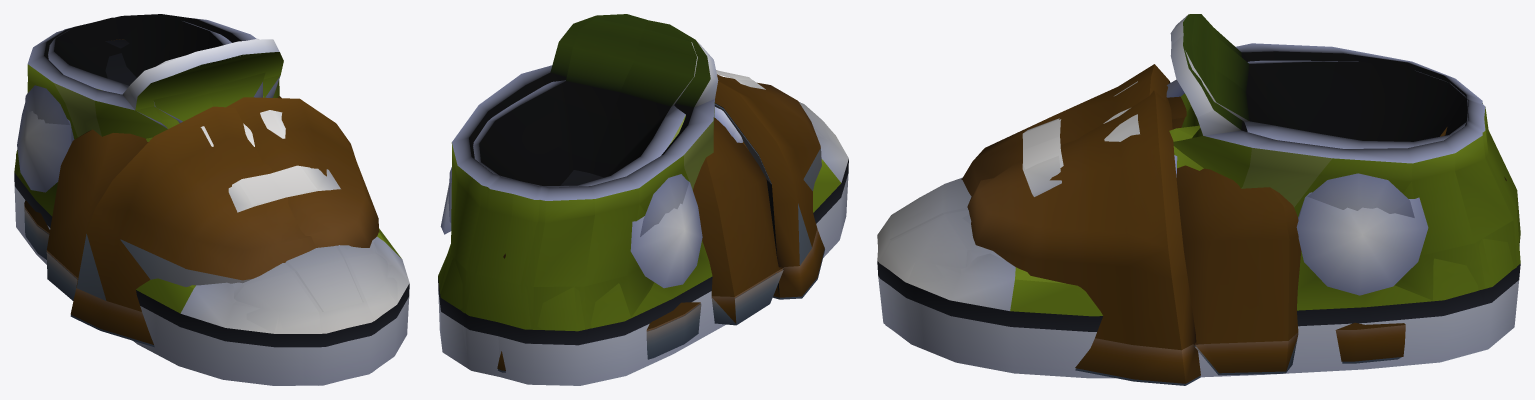
The model's file is BTLMN_Outfit_Shoes_A.glb.
The picture shows the model from 3 angles, left to right: view 1: azimuth 30°, elevation 25°; view 2: azimuth 150°, elevation 25°; view 3: azimuth 270°, elevation 25°; orthographic projection. The views are drawn at different scales.
Parts seen in each view (by area): view 1: Shoes_Military_Shoes_MA01_R, Shoes_Kicks_SA01_R, Shoes_Kicks_SA01_L, Shoes_Military_Shoes_MA01_L, Shoes_Armored_Shoes_AA01_R; view 2: Shoes_Kicks_SA01_L, Shoes_Kicks_SA01_R, Shoes_Military_Shoes_MA01_R, Shoes_Armored_Shoes_AA01_R, Shoes_Military_Shoes_MA01_L; view 3: Shoes_Military_Shoes_MA01_L, Shoes_Kicks_SA01_L, Shoes_Kicks_SA01_R, Shoes_Military_Shoes_MA01_R, Shoes_Armored_Shoes_AA01_L.
Part boxes in pixels (bbox=[...]): Shoes_Military_Shoes_MA01_R: bbox=[24, 39, 315, 344]; Shoes_Kicks_SA01_R: bbox=[14, 14, 397, 385]; Shoes_Kicks_SA01_L: bbox=[16, 16, 409, 385]; Shoes_Military_Shoes_MA01_L: bbox=[226, 96, 379, 247]; Shoes_Armored_Shoes_AA01_R: bbox=[24, 206, 252, 347]; Shoes_Kicks_SA01_L: bbox=[438, 16, 836, 376]; Shoes_Kicks_SA01_R: bbox=[439, 14, 848, 385]; Shoes_Military_Shoes_MA01_R: bbox=[646, 76, 824, 331]; Shoes_Armored_Shoes_AA01_R: bbox=[646, 103, 824, 359]; Shoes_Military_Shoes_MA01_L: bbox=[497, 74, 748, 370]; Shoes_Military_Shoes_MA01_L: bbox=[967, 90, 1506, 383]; Shoes_Kicks_SA01_L: bbox=[877, 14, 1520, 378]; Shoes_Kicks_SA01_R: bbox=[877, 16, 1520, 330]; Shoes_Military_Shoes_MA01_R: bbox=[961, 64, 1447, 196]; Shoes_Armored_Shoes_AA01_L: bbox=[1075, 338, 1401, 385].
Size of the model in its own units: 0.3833 by 0.3011 by 0.6317.
Materials: 3 (3 with a texture image).
